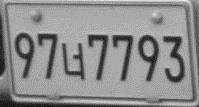3: (162, 35, 185, 82)
7: (111, 33, 133, 81), (87, 33, 108, 80), (37, 32, 57, 79)
9: (137, 33, 159, 81), (14, 31, 35, 78)
너: (60, 42, 85, 80)
